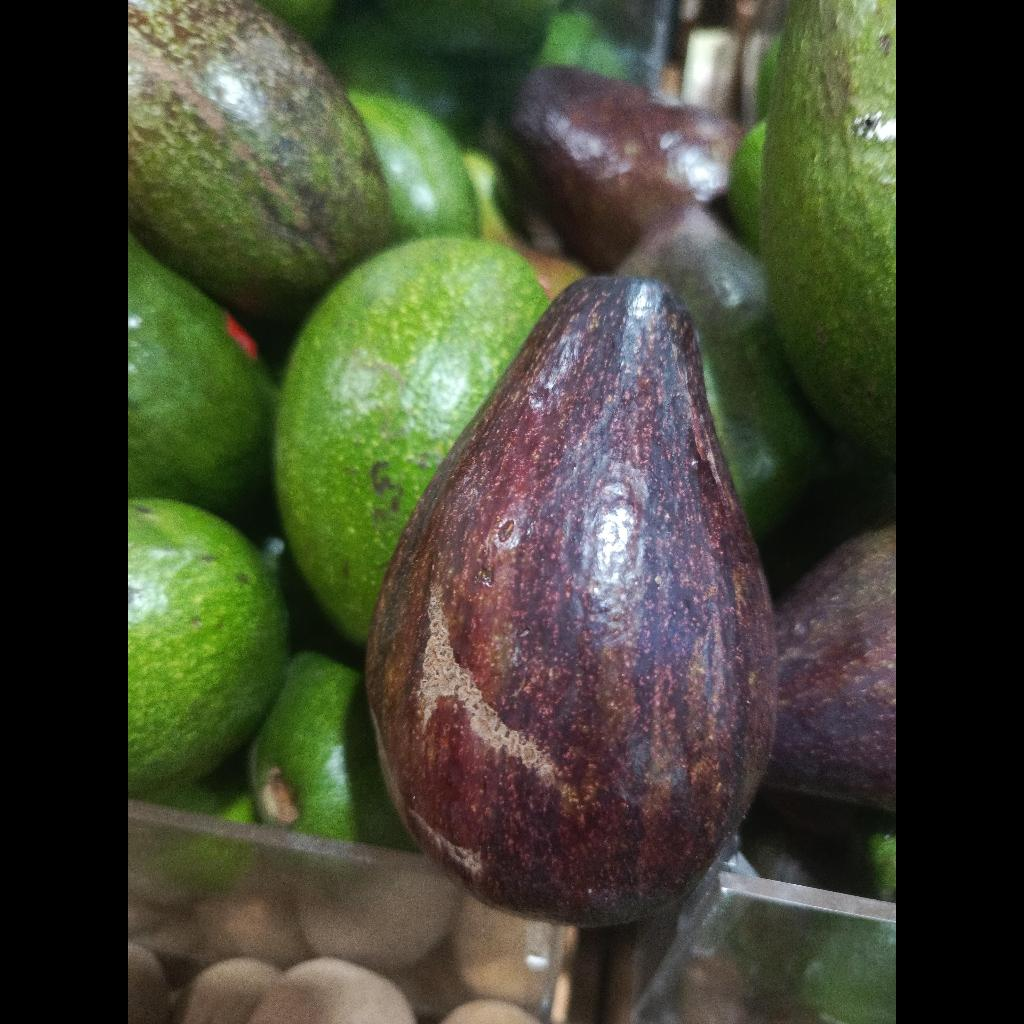antracnosis_fruto: (128, 0, 392, 320), (760, 0, 896, 460)
rona: (367, 276, 776, 926)
